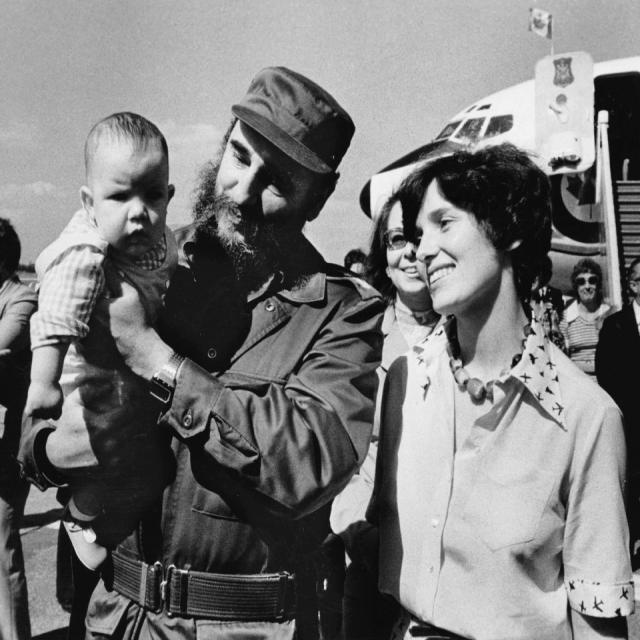body: (15, 57, 392, 639), (363, 139, 636, 640), (21, 109, 180, 571), (333, 235, 571, 358), (0, 217, 41, 640), (592, 256, 640, 574), (365, 188, 440, 363), (557, 257, 620, 379)
